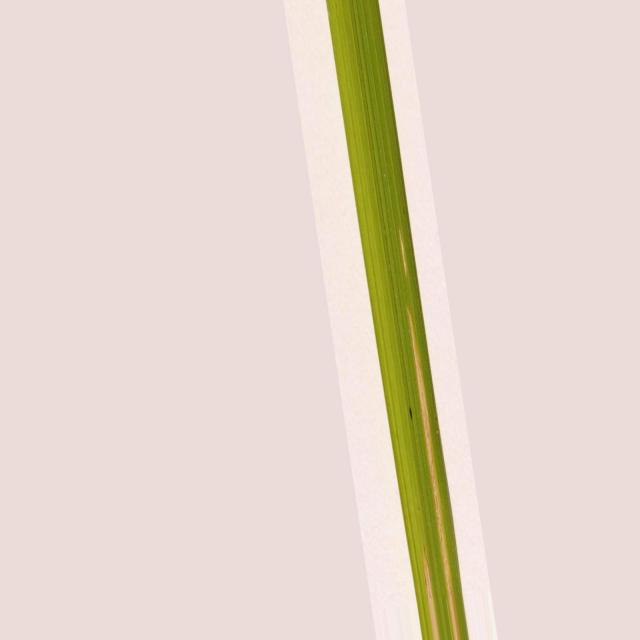Bacterial_Leaf_Blight: (406, 304, 461, 640), (422, 545, 440, 639), (398, 226, 409, 278)
